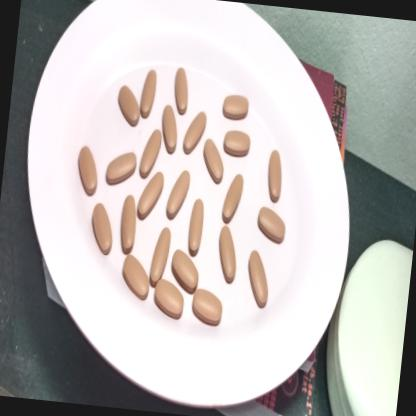VitaminB: (241, 244, 275, 313), (85, 196, 119, 258), (252, 199, 292, 250), (117, 250, 151, 307), (150, 273, 188, 323), (72, 138, 104, 197), (213, 223, 242, 288), (186, 284, 226, 331), (116, 188, 142, 258), (146, 221, 173, 288), (135, 166, 165, 226), (164, 164, 192, 226), (168, 246, 203, 295), (113, 77, 144, 132), (197, 136, 227, 192), (262, 144, 288, 205), (180, 105, 208, 161), (104, 146, 138, 192), (184, 196, 208, 260), (158, 102, 182, 165), (137, 127, 164, 182), (136, 62, 161, 121), (218, 170, 245, 224), (170, 62, 194, 118), (220, 124, 253, 158), (219, 88, 250, 123)
